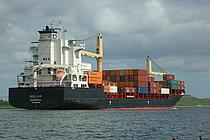Ship: (7, 20, 189, 115)
